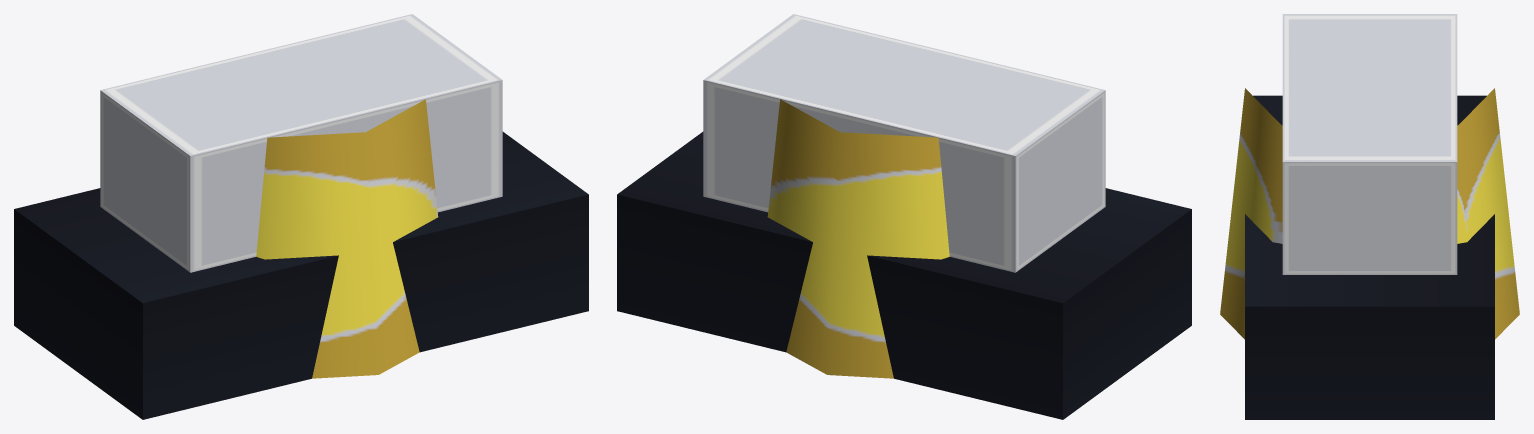
Rendered from PRP_Altar.glb.
3 renders of one model, left to right at view 1: azimuth 30°, elevation 25°; view 2: azimuth 150°, elevation 25°; view 3: azimuth 270°, elevation 25°, orthographic. The views are drawn at different scales.
Visible parts, largest first — view 1: PRP_Altar; view 2: PRP_Altar; view 3: PRP_Altar.
Part boxes in pixels (box(x1,y1,x2,y2)): PRP_Altar: box(14, 14, 588, 419); PRP_Altar: box(617, 14, 1191, 419); PRP_Altar: box(1220, 14, 1519, 419).
Size of the model in its own units: 2.4 by 1.2 by 1.44.
Materials: 1 (1 with a texture image).
